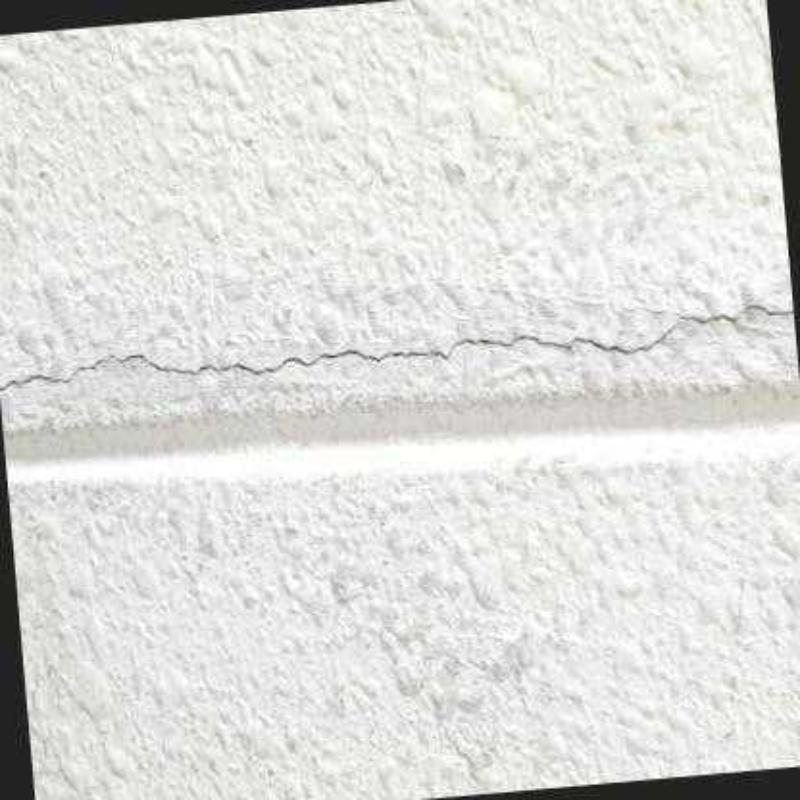pothole: (0, 299, 794, 390)
